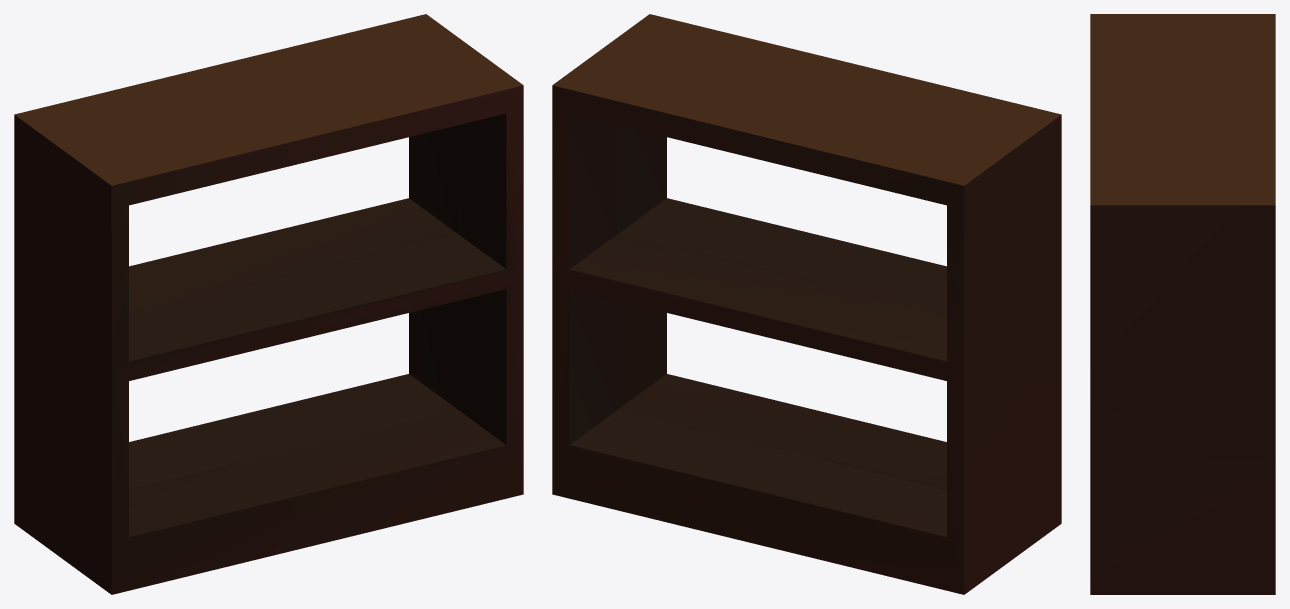
The model's file is short_bookcase.FBX.
3 renders of one model, left to right at view 1: azimuth 30°, elevation 25°; view 2: azimuth 150°, elevation 25°; view 3: azimuth 270°, elevation 25°, orthographic. The views are drawn at different scales.
Parts seen in each view (by area): view 1: short bookcase; view 2: short bookcase; view 3: short bookcase.
Boxes of the visible parts, left/top/right/bottom form: short bookcase: left=14, top=14, right=523, bottom=594; short bookcase: left=552, top=14, right=1061, bottom=594; short bookcase: left=1090, top=14, right=1275, bottom=594.
Size of the model in its own units: 0.9701 by 0.9205 by 0.3975.
